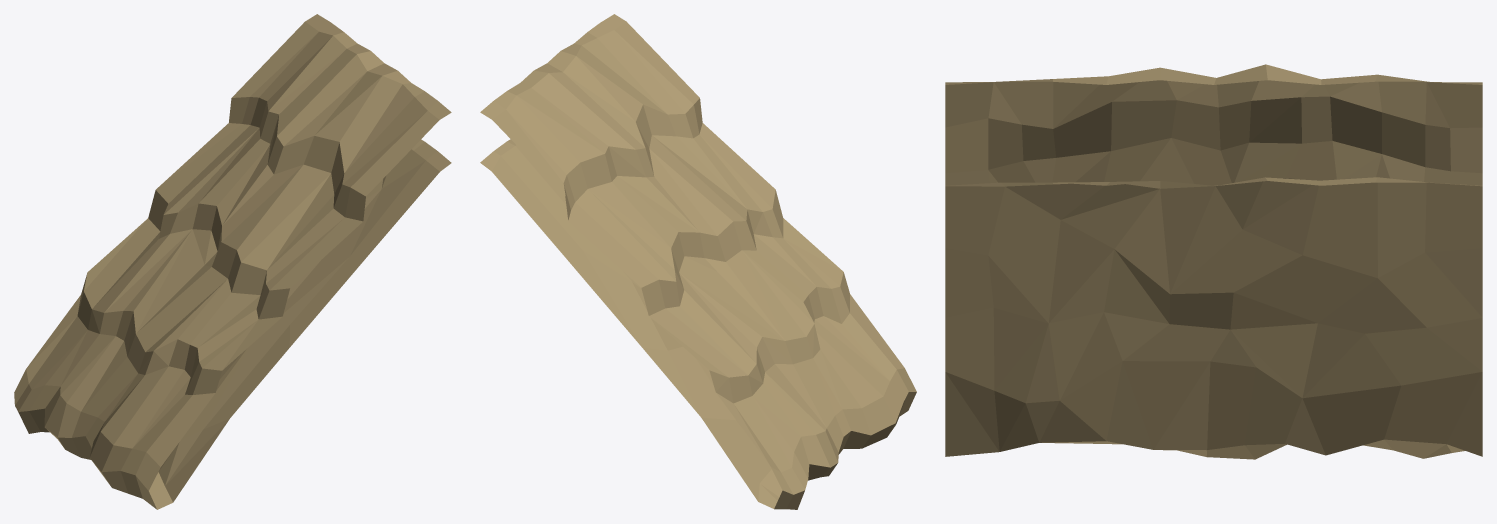
The model's file is rpgpp_ag_roof_02b_6x3x3_half.fbx.
The picture shows the model from 3 angles, left to right: view 1: azimuth 30°, elevation 25°; view 2: azimuth 150°, elevation 25°; view 3: azimuth 270°, elevation 25°; orthographic projection. The views are drawn at different scales.
Visible parts, largest first — view 1: rpgpp_ag_roof_02b_6x3x3_half; view 2: rpgpp_ag_roof_02b_6x3x3_half; view 3: rpgpp_ag_roof_02b_6x3x3_half.
Boxes of the visible parts, bbox=[...] form: rpgpp_ag_roof_02b_6x3x3_half: bbox=[14, 14, 451, 509]; rpgpp_ag_roof_02b_6x3x3_half: bbox=[480, 14, 916, 509]; rpgpp_ag_roof_02b_6x3x3_half: bbox=[945, 64, 1482, 459].
Bounding box in the file's own units: 4.07 × 4.16 × 3.
